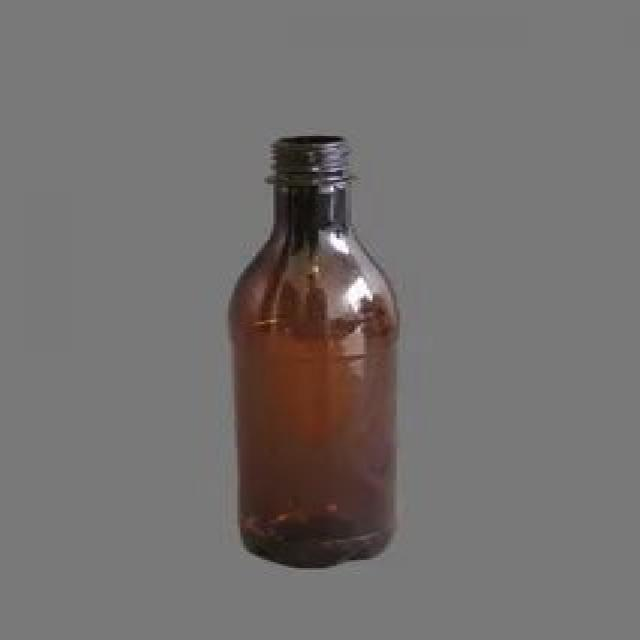brown: (228, 137, 396, 568)
